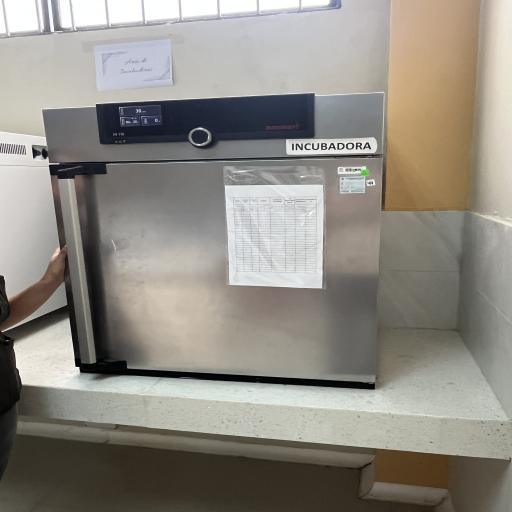Incubadora: (35, 94, 406, 402)
